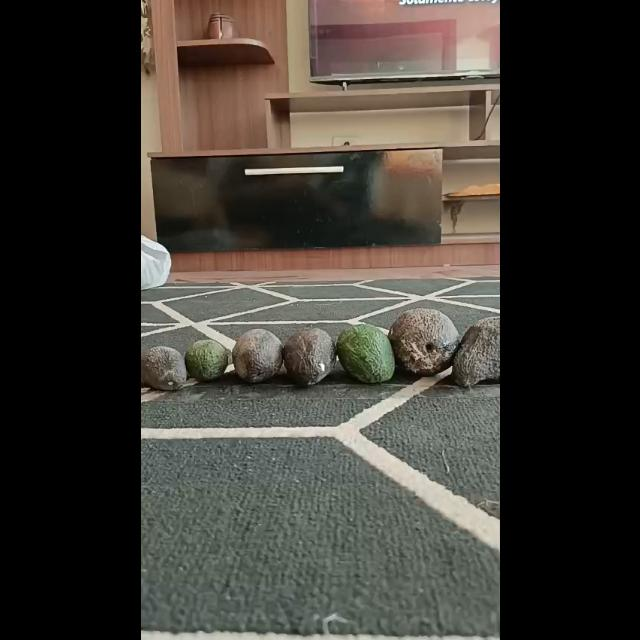Primera: (388, 308, 460, 377), (449, 316, 498, 388)
Segunda: (336, 324, 394, 384), (282, 327, 336, 385), (230, 328, 284, 382)
Tercera: (184, 338, 232, 382), (140, 346, 186, 390)
